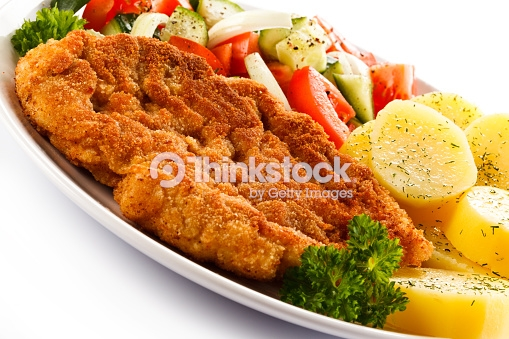boiled potatoes: (363, 102, 509, 222)
